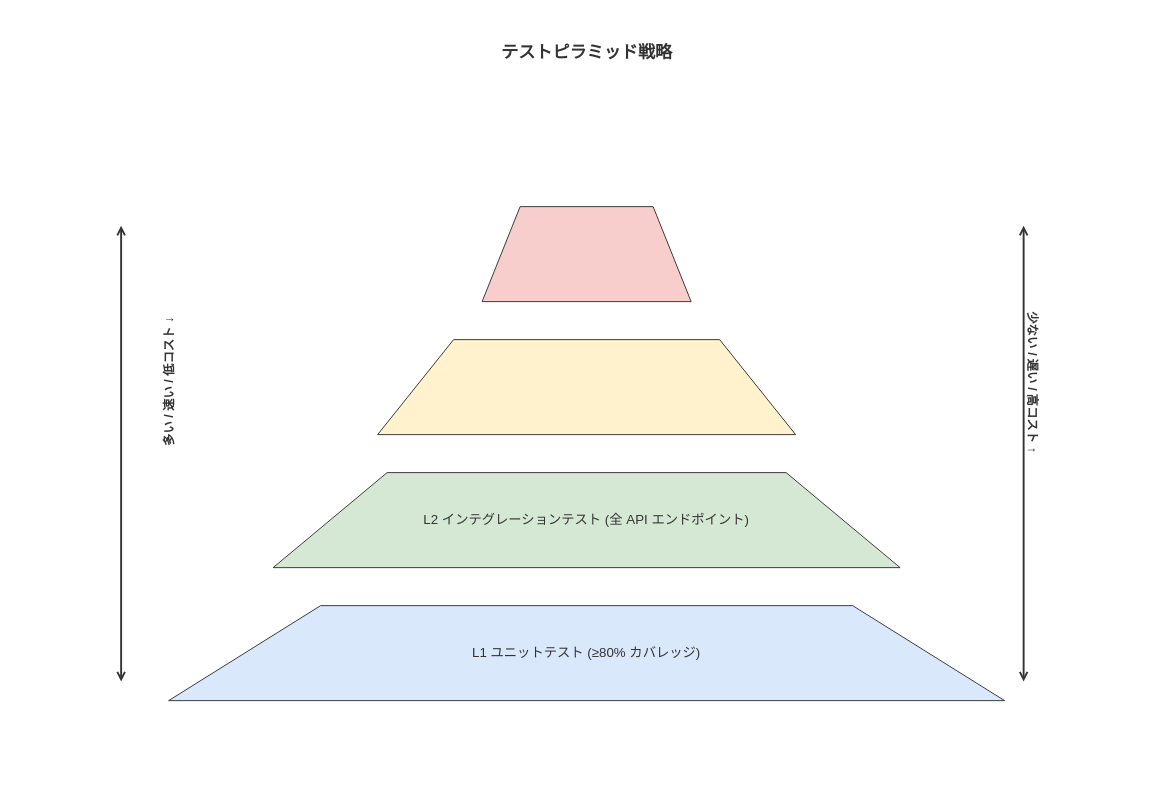
The diagram is 1172 pixels wide and 792 high, and some of its shapes have lost their labels. Each missing label, with the centre of its shape:
"L3 E2E テスト (22 UC ゴールデンパス)" belongs at point (586, 387).
"L4 契約テスト (OpenAPI 100% 準拠)" belongs at point (586, 254).
